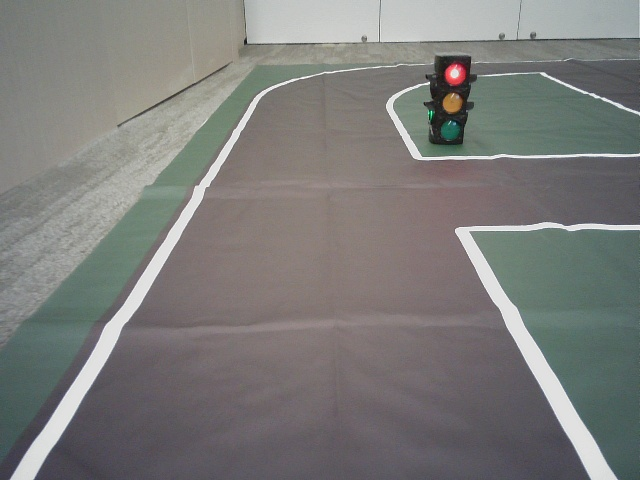red: (438, 60, 465, 143)
